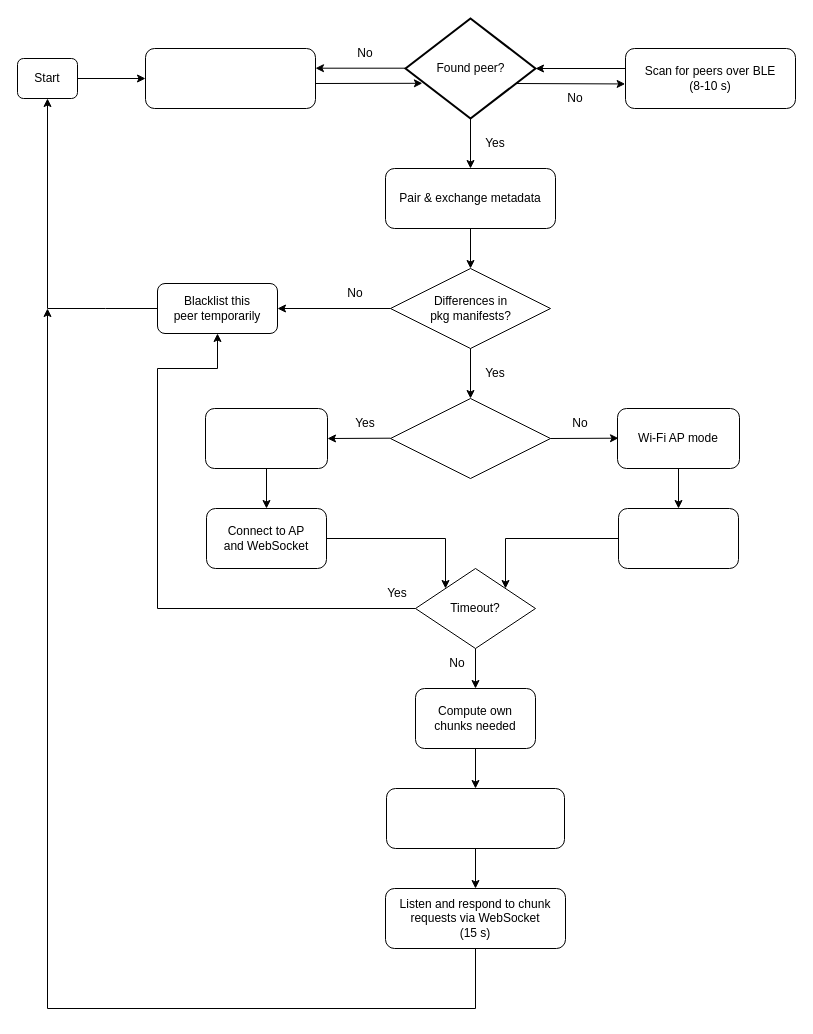
The diagram is 813 pixels wide and 1034 high, and some of its shapes have lost their labels. The shapes that lost their labels are listed below. From the top down, each one's centre as x and y in pixels, then its label:
At [230,78]: "Advertise metadata over BLE (15-30 s)".
At [266,438]: "Wi-Fi Client mode".
At [470,438]: "My hostname < theirs?".
At [678,538]: "Start AP and WebSocket server".
At [475,818]: "Request missing chunks via WebSocket".
